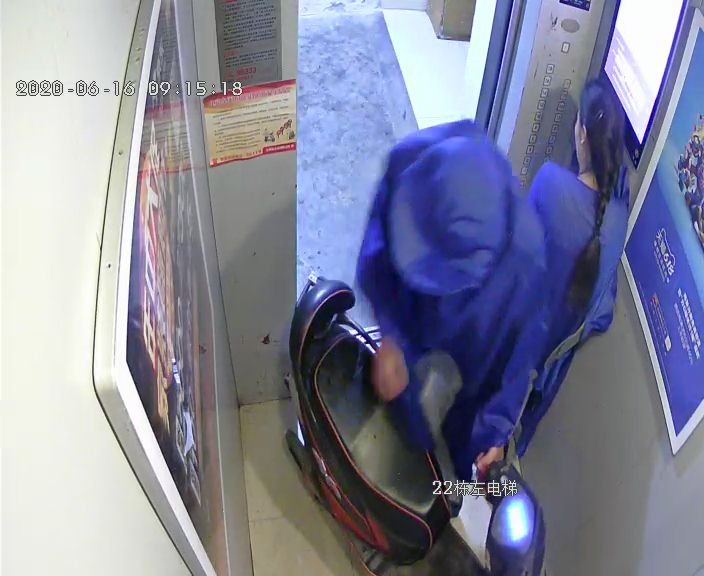Electric-bicycle: (271, 270, 542, 573)
